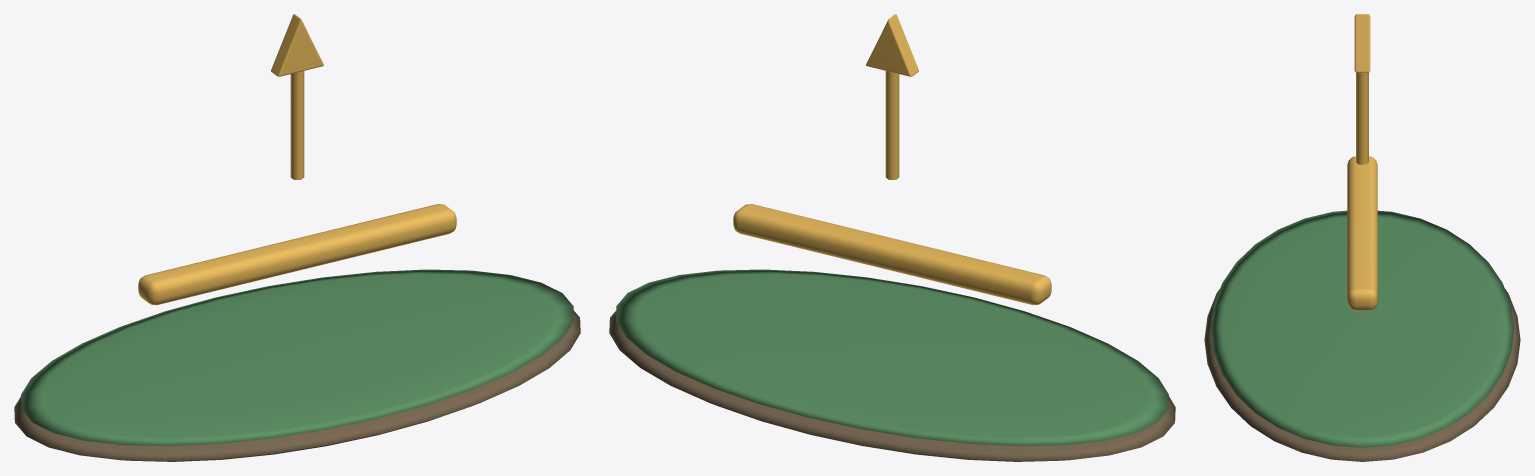
File: above.glb
3 views of the same model, side by side, from view 1: azimuth 30°, elevation 25°; view 2: azimuth 150°, elevation 25°; view 3: azimuth 270°, elevation 25° (orthographic). The views are drawn at different scales.
Parts seen in each view (by area): view 1: above_surface_01, above_surface_02, above_surface_00; view 2: above_surface_01, above_surface_02, above_surface_00; view 3: above_surface_01, above_surface_02, above_surface_00.
Boxes of the visible parts, x1,y1,x2,y2 form: above_surface_01: [21, 269, 573, 446]; above_surface_02: [138, 14, 456, 305]; above_surface_00: [14, 310, 580, 461]; above_surface_01: [616, 269, 1168, 446]; above_surface_02: [733, 14, 1051, 305]; above_surface_00: [609, 310, 1175, 461]; above_surface_01: [1210, 210, 1514, 447]; above_surface_02: [1347, 14, 1377, 310]; above_surface_00: [1204, 289, 1520, 461].
Size of the model in its own units: 4.56 by 2.97 by 2.5.
